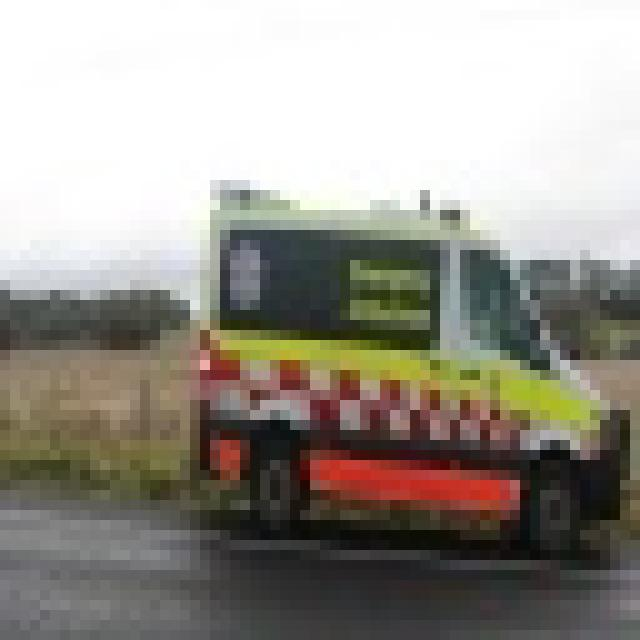Ambulance: (190, 170, 620, 550)
